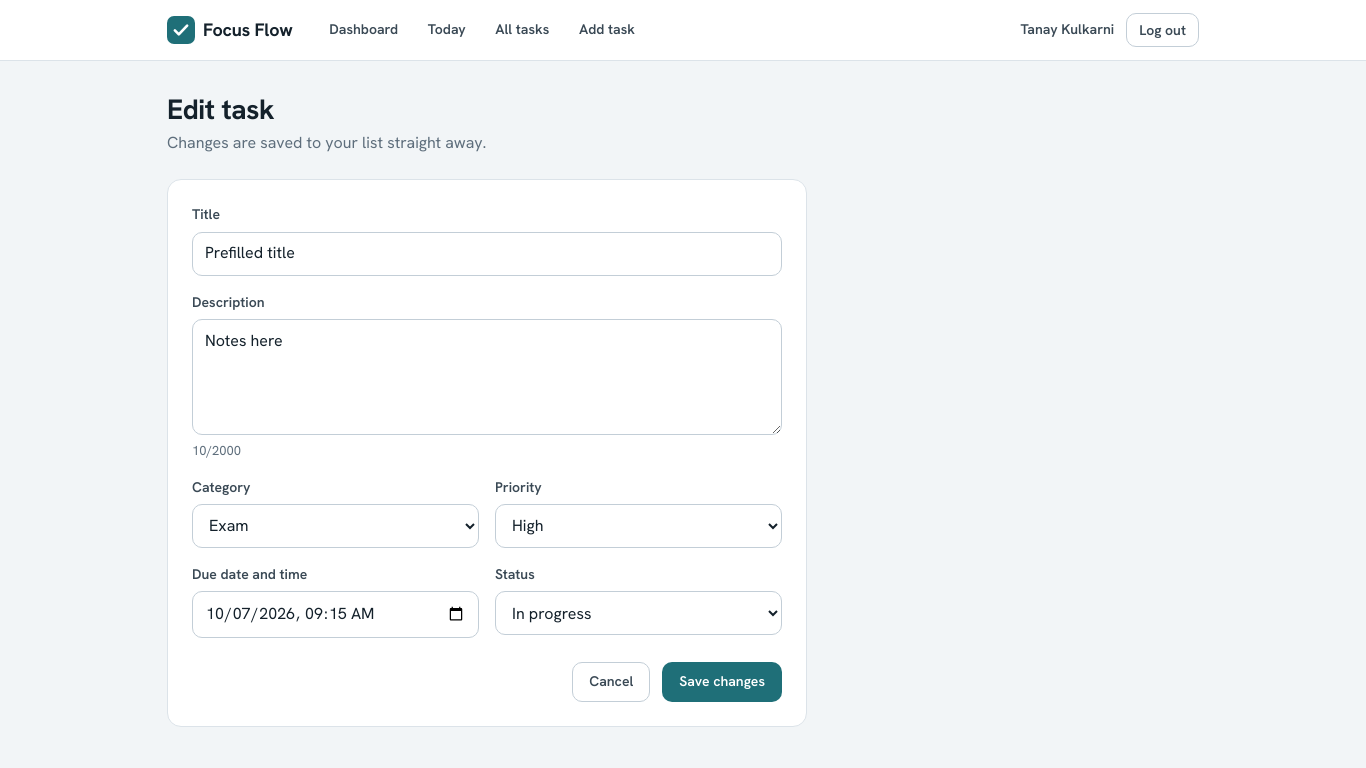
Test case: add and edit task › edits a task using the same form, prefilled
The width and height of the screenshot is (1366, 768).
Expected: the text box labelled "Description" holds "Notes here", top-left (192, 319), bottom-right (782, 435)
Expected: the dropdown labelled "Priority" shows "High", top-left (495, 504), bottom-right (782, 548)
Replace the text in the field labelled "Title" with "Renamed" at (487, 254), box top-left (192, 232), bottom-right (782, 276)
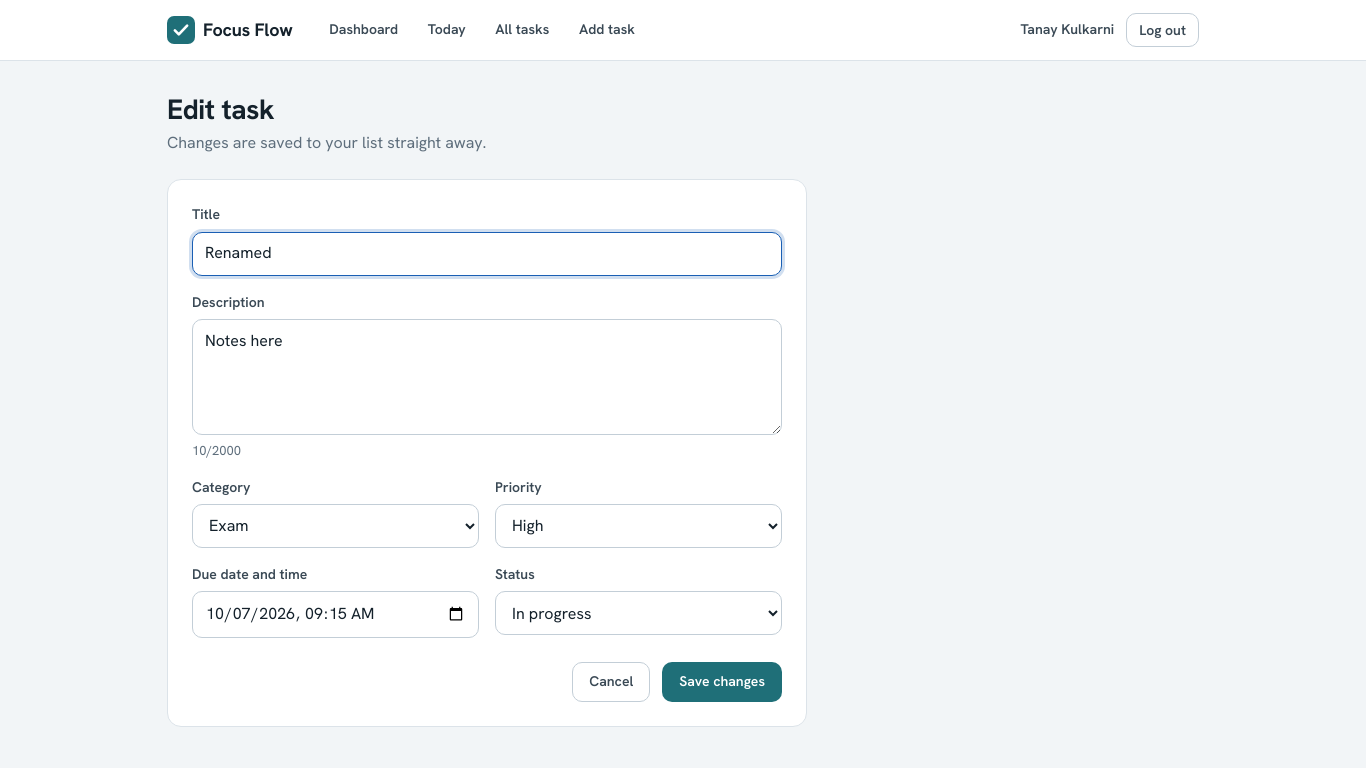
Click the button "Save changes" at (722, 682), box top-left (662, 662), bottom-right (782, 702)
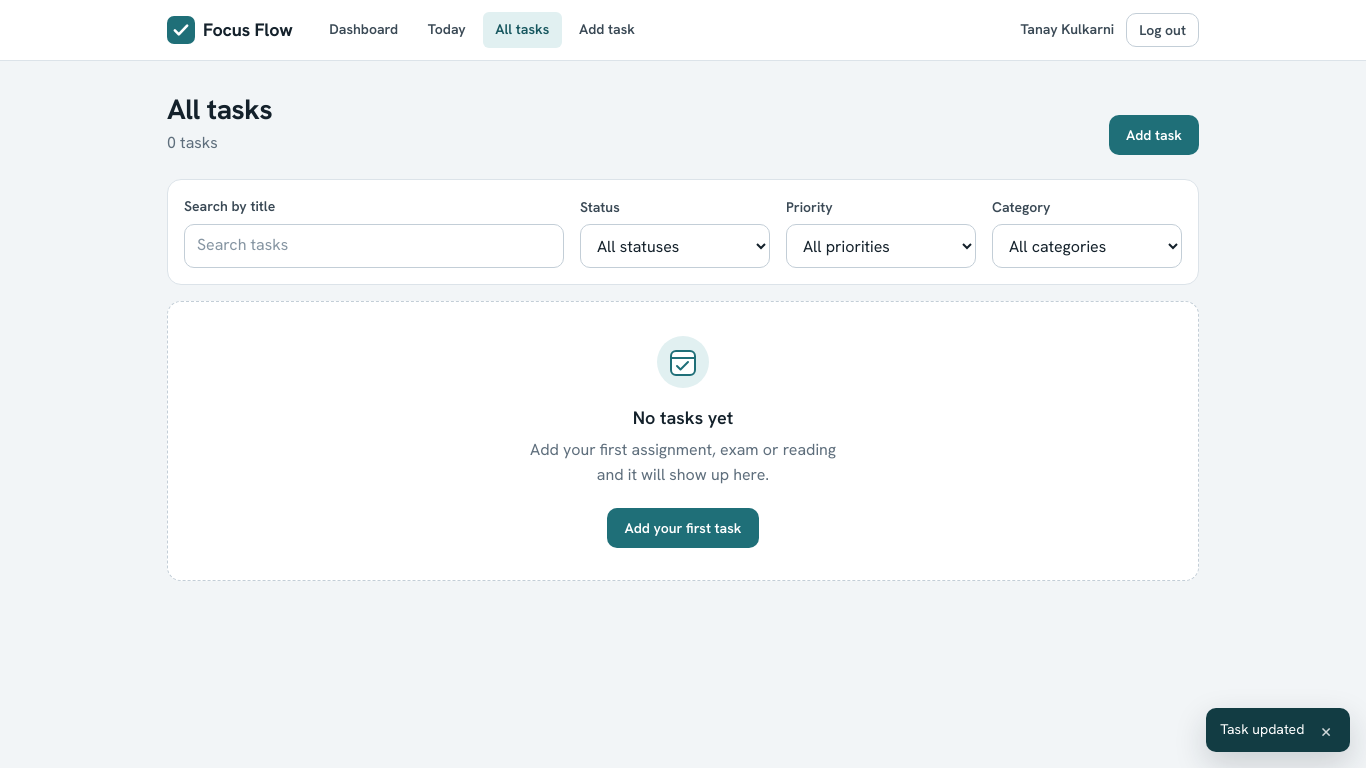
Result: the heading "All tasks" is shown at top-left (167, 93), bottom-right (272, 127)
Result: the text "Task updated" is shown at top-left (1220, 719), bottom-right (1304, 741)
